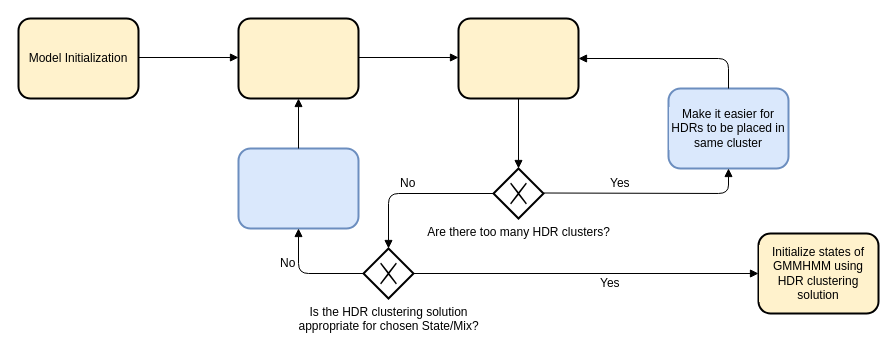
Some shapes in this 896 by 351 pixel diagram are drawn without their labels. The shapes that lost their labels are listed below. From the top down, each one's centre as x and y in pixels, then its label:
At (298,58): "Fit GMM to find HDRs".
At (518,58): "Perform Spectral Clustering on the HDRs".
At (298,188): "If clustering solution too complex, make it harder to find HDRs (or vice versa)".
